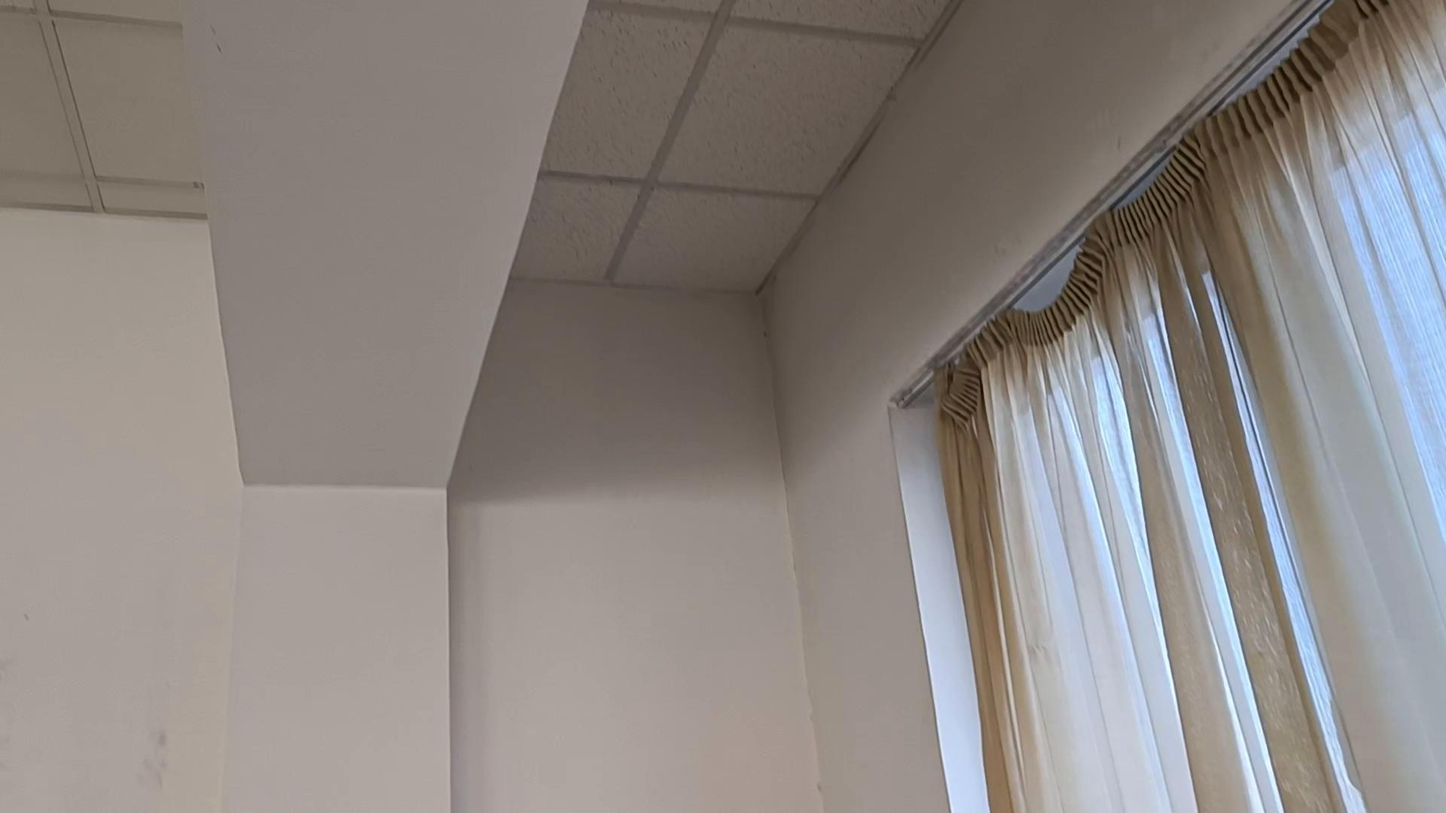ceiling: (181, 3, 582, 483), (514, 0, 952, 291), (514, 0, 950, 291), (0, 0, 204, 217)
wall: (762, 3, 1280, 809), (4, 206, 446, 812), (448, 282, 821, 812)
